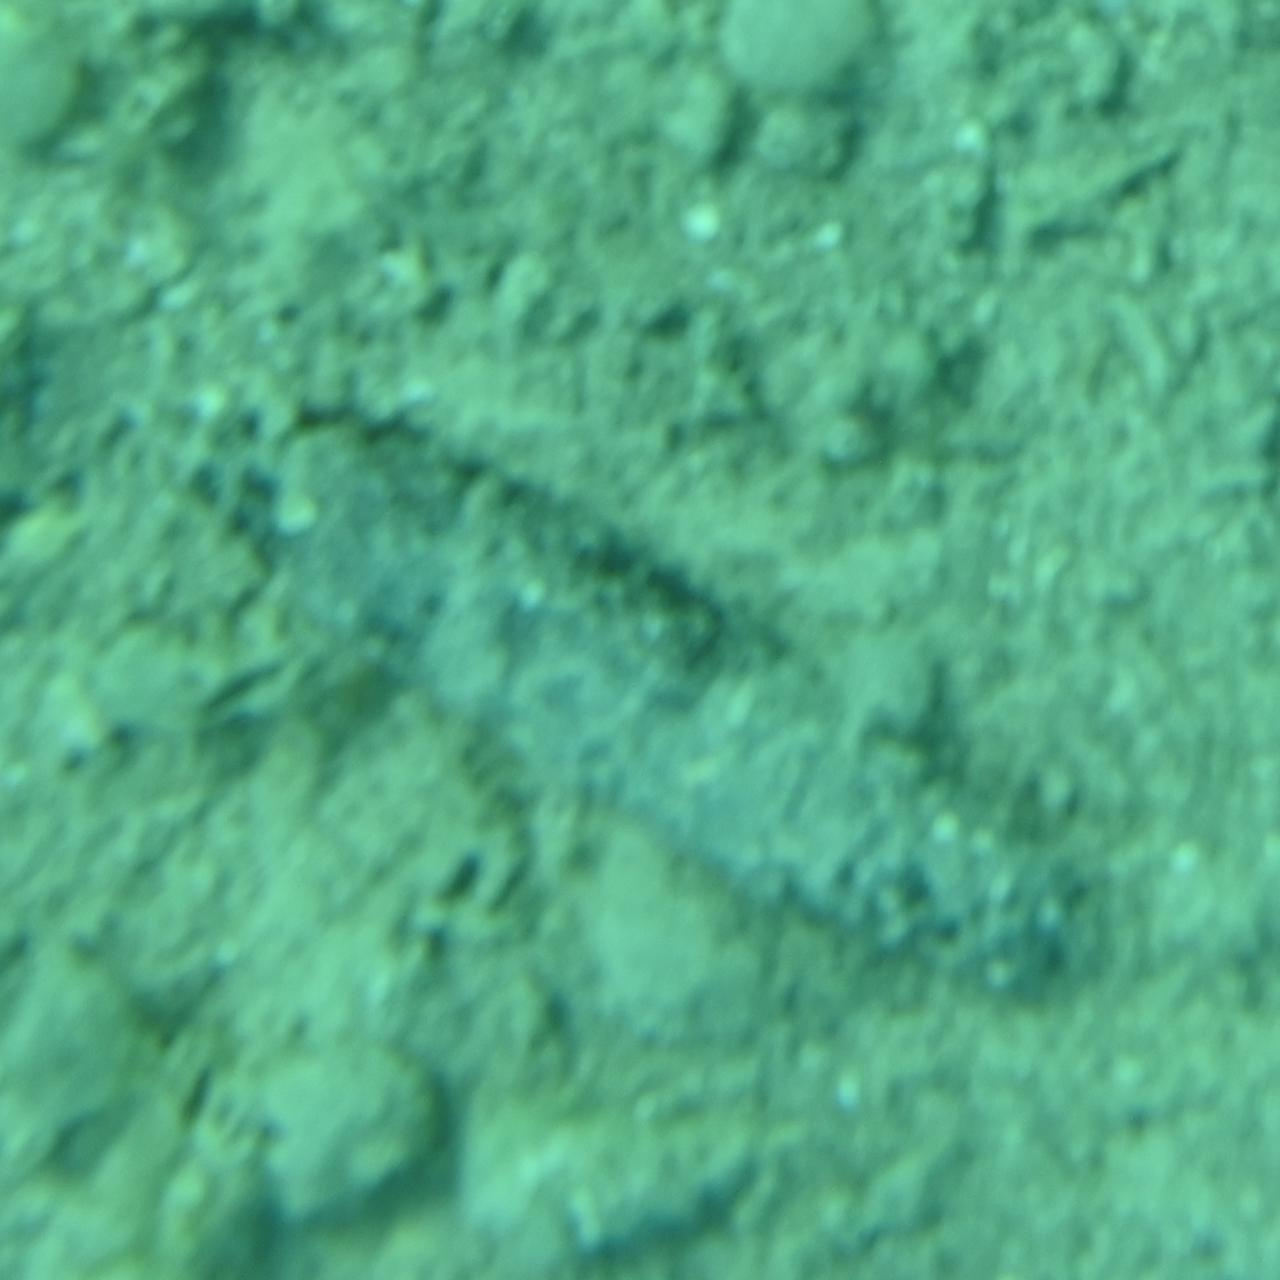Holothuria tubulosa: (142, 365, 1138, 1024)
